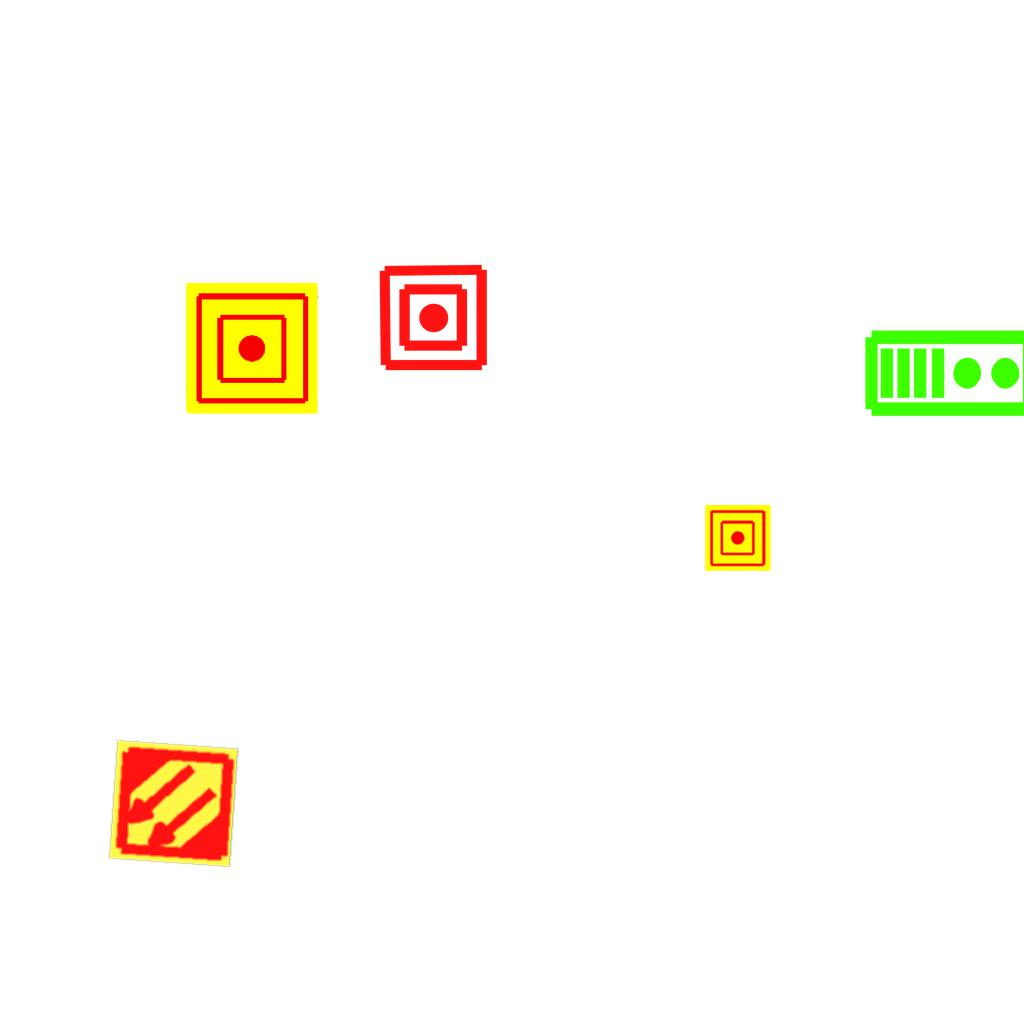ASR_Ansaugrauchmelder: (106, 736, 241, 871)
Gegensprechanlage_mit_Video: (863, 324, 1024, 419)
NAM-Nichtautomatischer_Melder: (186, 282, 318, 414), (377, 261, 490, 374), (705, 505, 771, 571)
